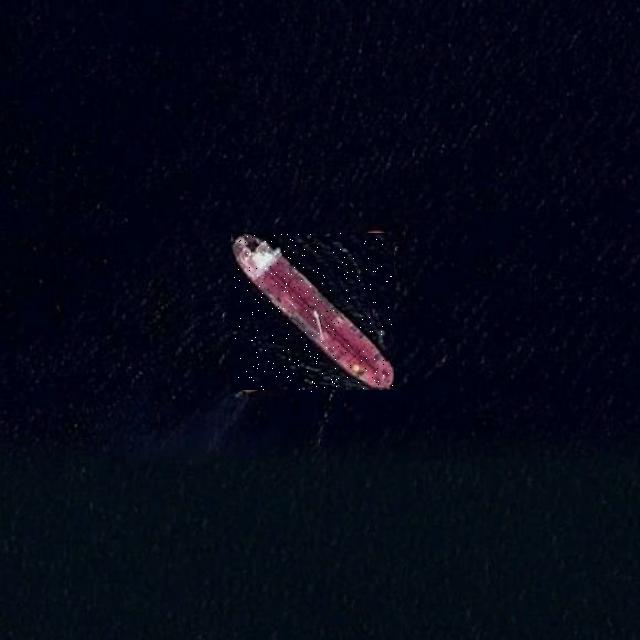boat: (232, 232, 393, 392)
